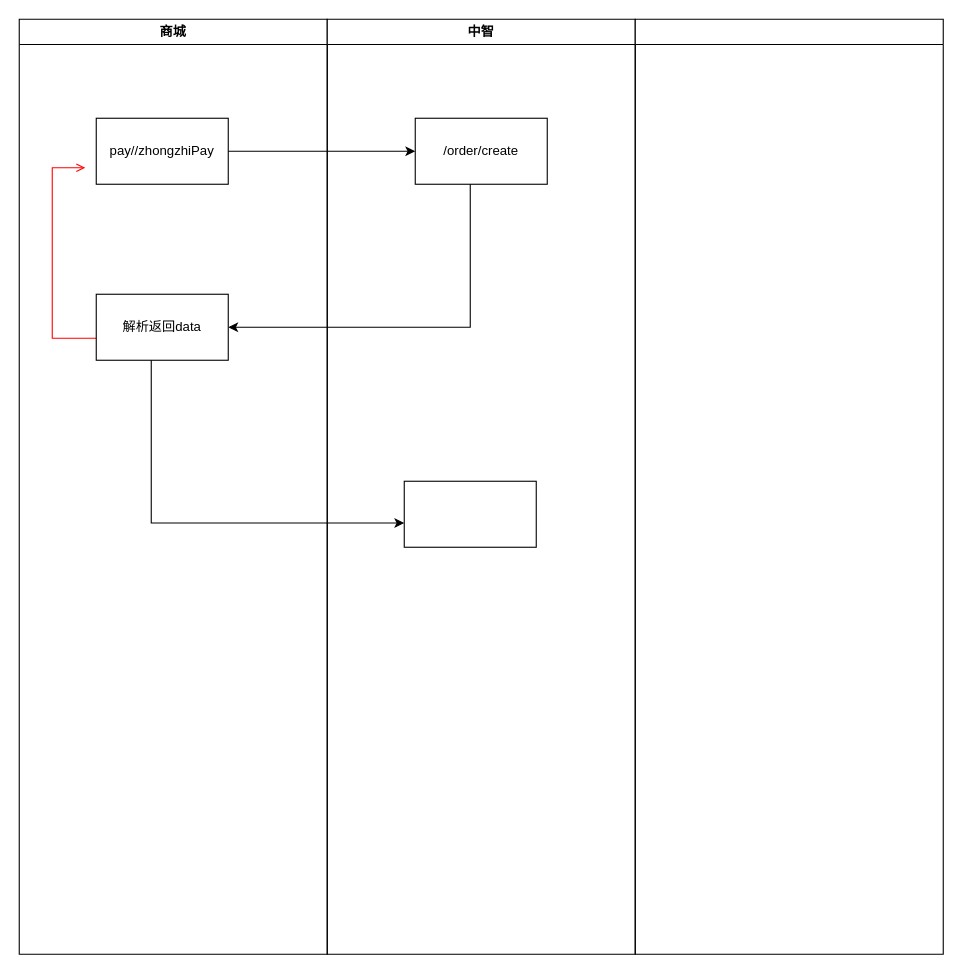
Image size: 963x974. Some labels were removed from this diagram. Here are the shapes that lost their labels. From the top down, the centre of each, then its label:
At [788,486]: "Thread 3".
At [469,513]: "上传处方".
